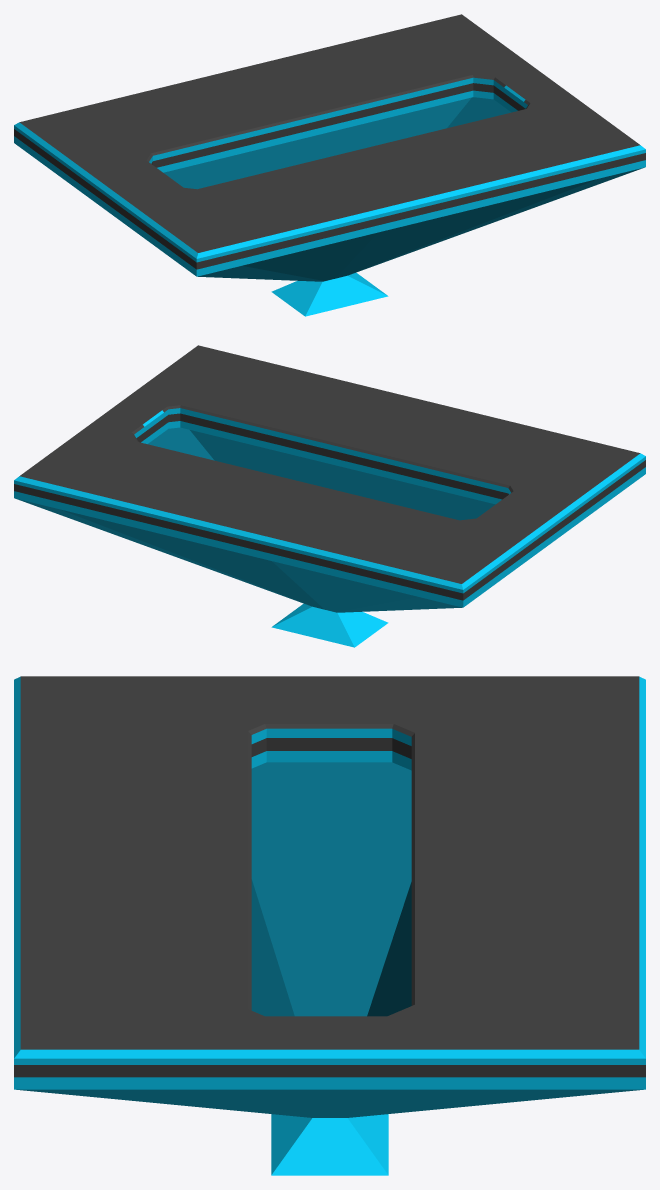
File: table1.fbx
3 views of the same model, one above another, from view 1: azimuth 30°, elevation 25°; view 2: azimuth 150°, elevation 25°; view 3: azimuth 270°, elevation 25° (orthographic). The views are drawn at different scales.
Parts seen in each view (by area): view 1: Table; view 2: Table; view 3: Table.
Boxes of the visible parts, <box> form: Table: <box>14,14,645,316</box>; Table: <box>14,345,645,647</box>; Table: <box>14,676,645,1175</box>.
Size of the model in its own units: 105 by 35.76 by 73.86.
